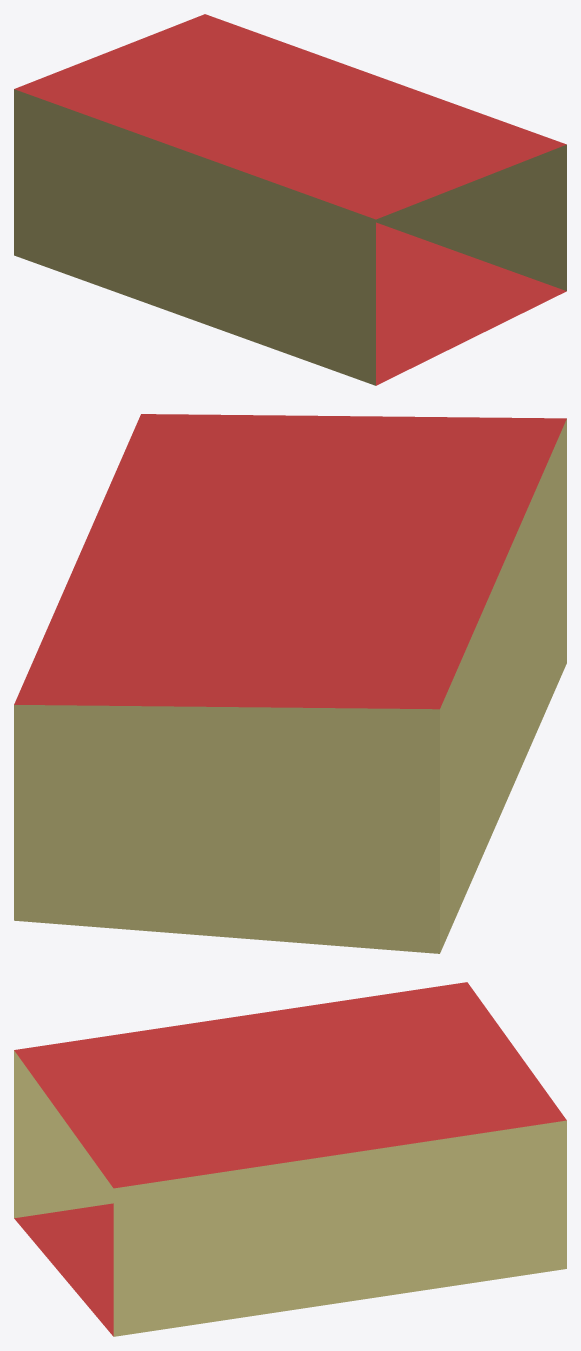
3 renders of one model, top to bottom at view 1: azimuth 30°, elevation 25°; view 2: azimuth 150°, elevation 25°; view 3: azimuth 270°, elevation 25°, orthographic. The views are drawn at different scales.
Bounding box in the file's own units: 13.4 × 16.79 × 5.63.
